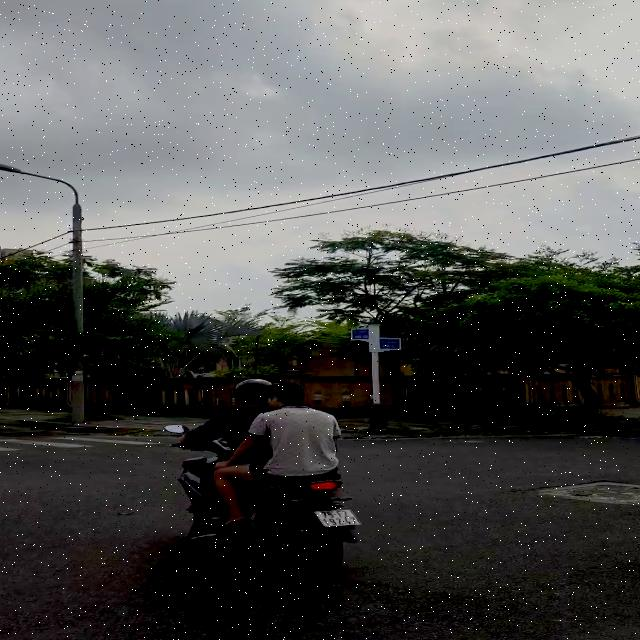helmet: (234, 379, 272, 404)
no_helmet: (276, 380, 314, 406)
